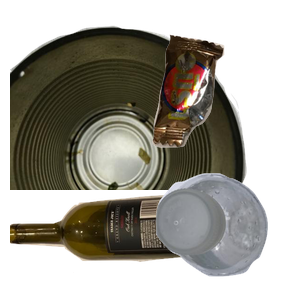glass: (10, 189, 250, 300)
metal: (10, 23, 250, 203)
plastic: (153, 170, 300, 300)
trash: (150, 32, 300, 172)
